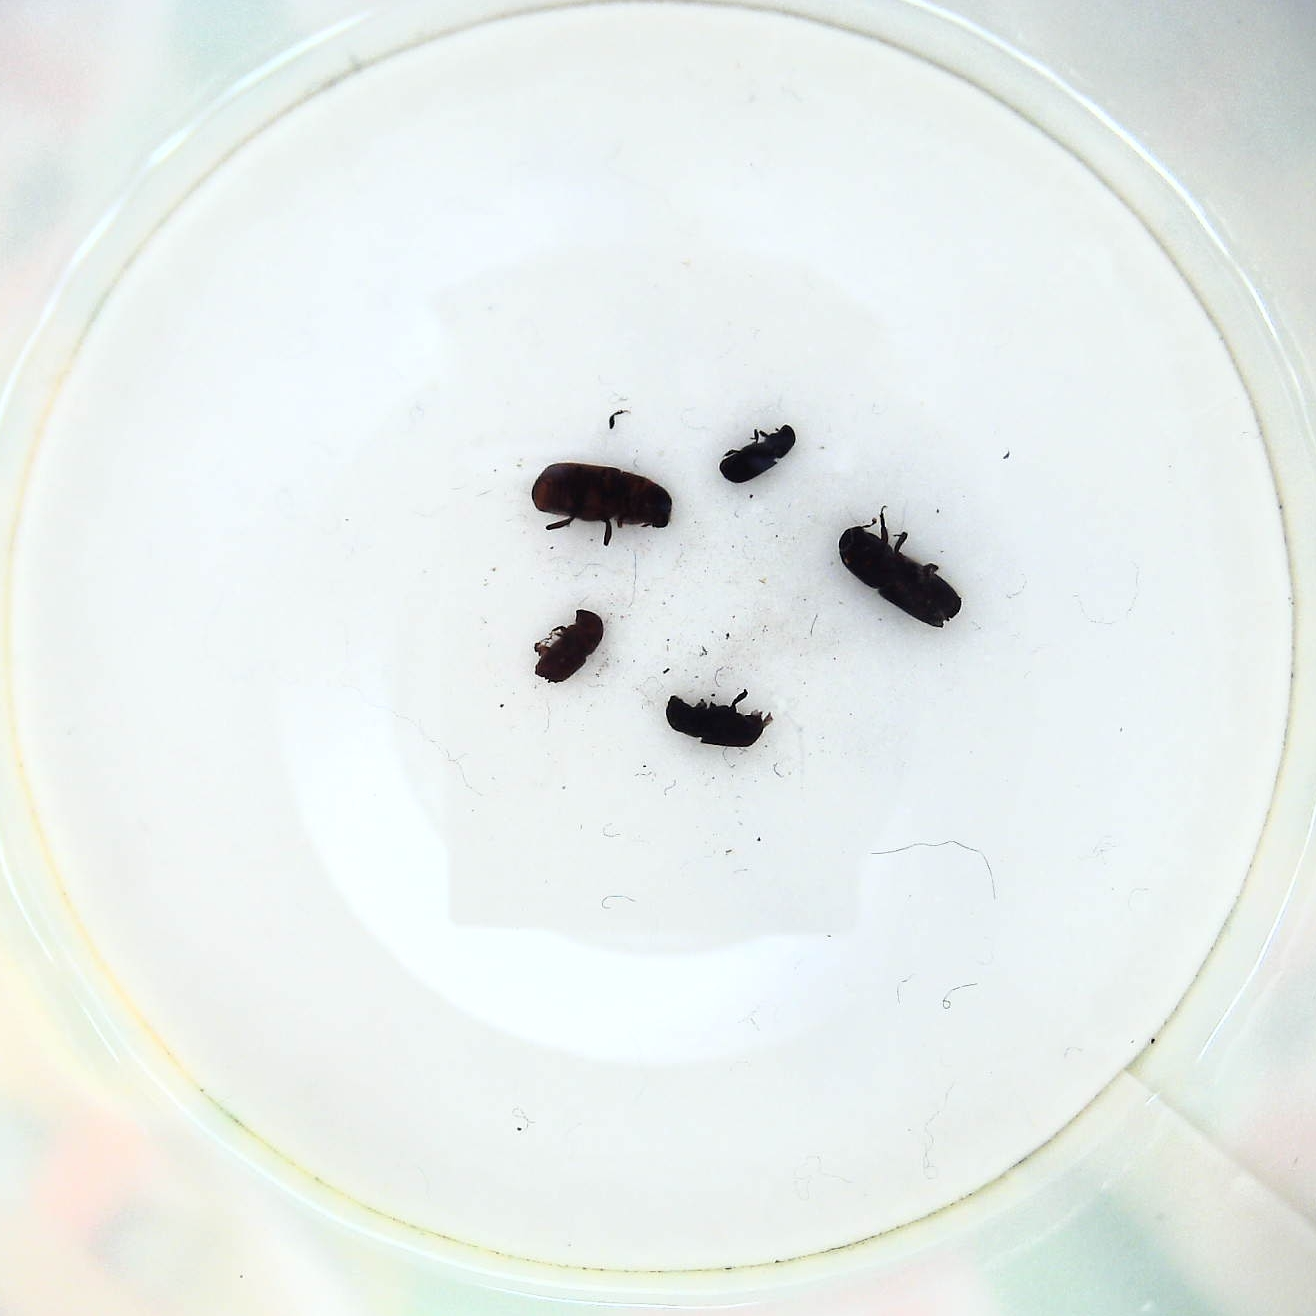Boerner: (834, 510, 968, 638)
Leconte: (531, 456, 678, 552)
armandi: (660, 693, 772, 754)
coleoptera: (713, 421, 800, 486)
linnaeus: (531, 609, 613, 688)
